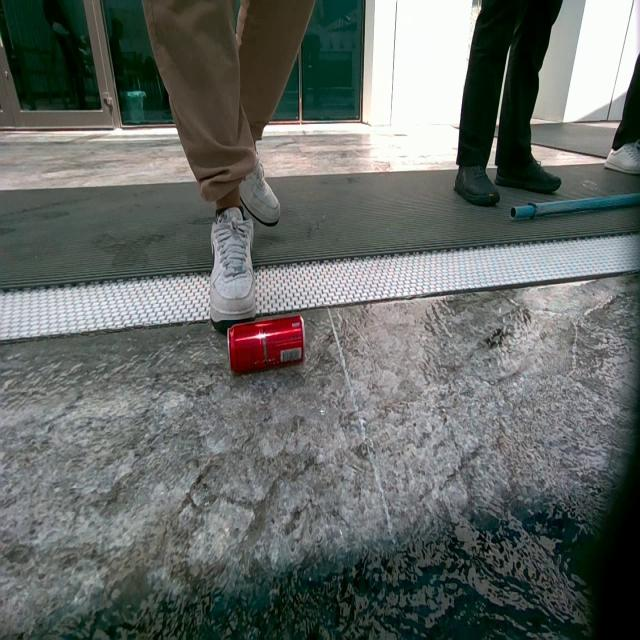Cans: (231, 320, 308, 378)
